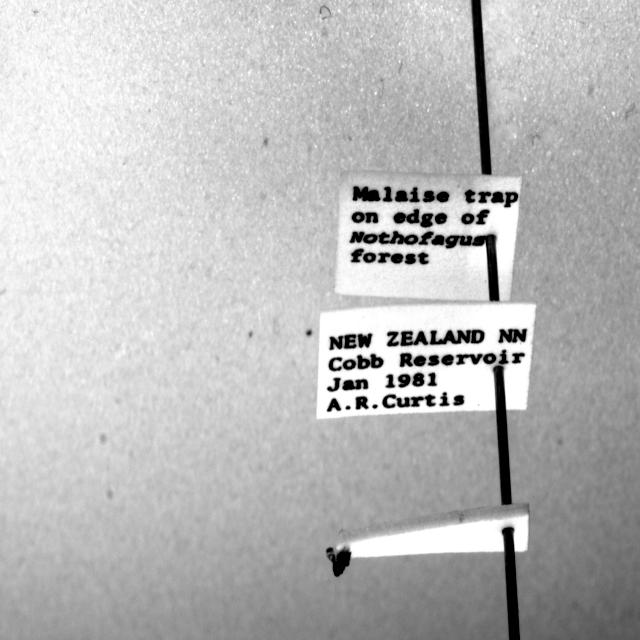typed_label: (316, 304, 536, 418), (335, 171, 521, 302)
